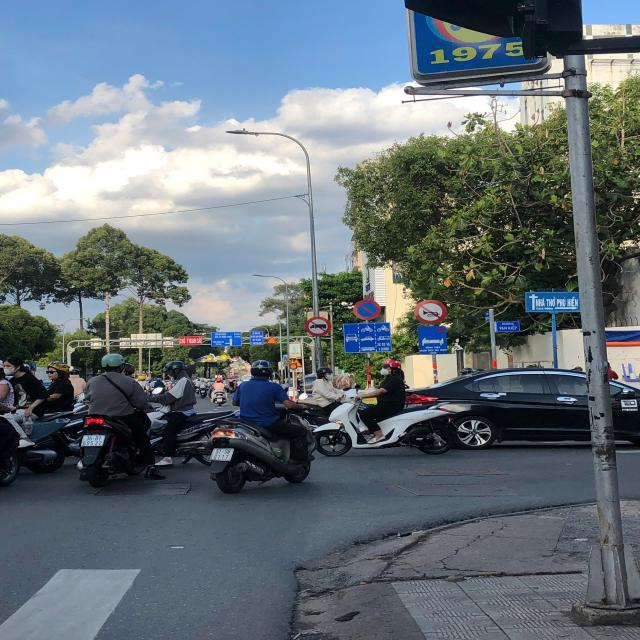Bien bao cam do xe: (350, 298, 386, 322)
Bien bao cam xe so-mi ro-mooc: (302, 314, 332, 338)
